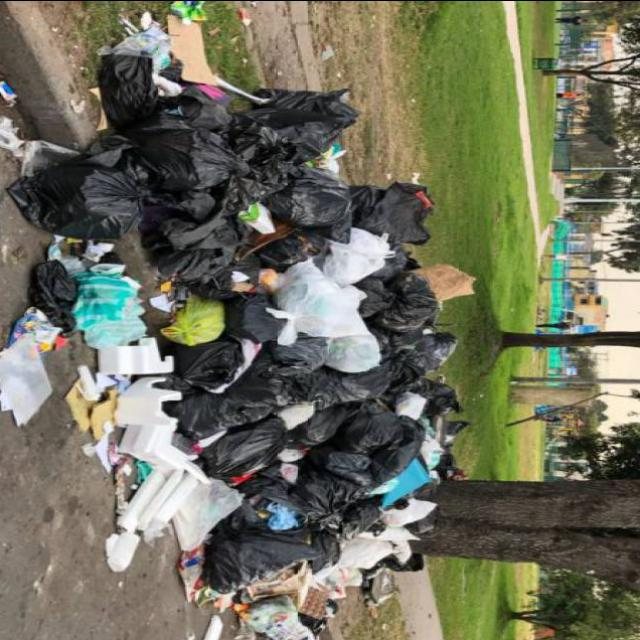plastik: (165, 347, 428, 438), (289, 399, 423, 515), (268, 259, 382, 370), (205, 502, 339, 593), (8, 161, 143, 238), (238, 87, 358, 163), (135, 127, 250, 189), (266, 166, 349, 240), (73, 272, 147, 347), (351, 181, 435, 244), (173, 478, 244, 550), (316, 227, 394, 285), (99, 54, 158, 126), (367, 272, 437, 331), (174, 335, 244, 389), (161, 295, 226, 345), (155, 247, 235, 281), (414, 263, 476, 300)
